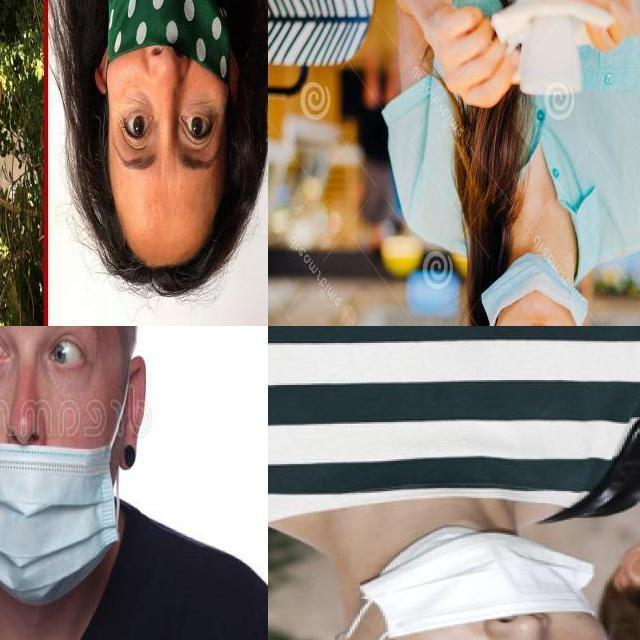hairnet: (380, 531, 605, 639), (0, 379, 118, 564), (106, 0, 226, 96)
